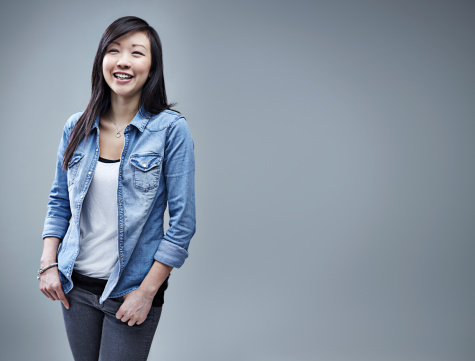em pe: (47, 10, 200, 361)
